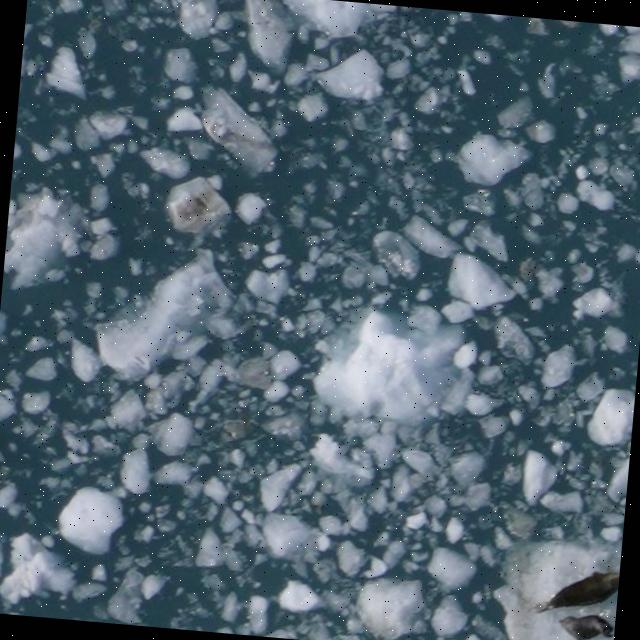seal: (531, 570, 619, 615), (560, 616, 614, 640)
